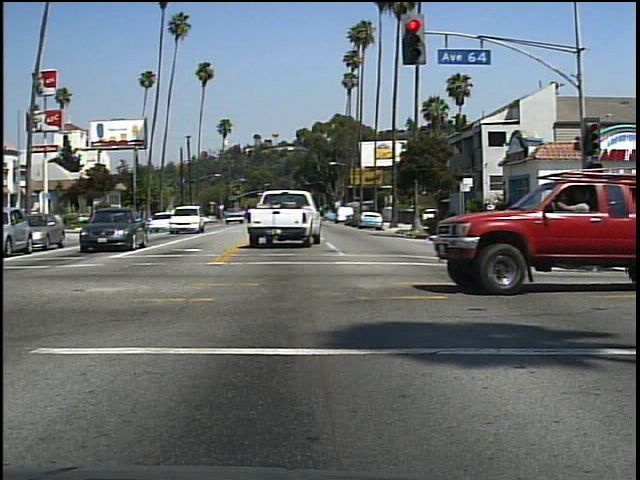person: (565, 181, 605, 294), (479, 197, 504, 236)
